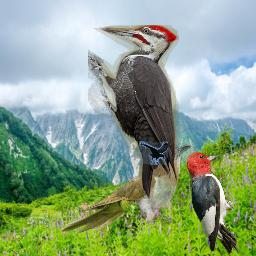Crow: (139, 141, 168, 165)
Cuckoo: (59, 144, 192, 233)
Woodpecker: (88, 25, 179, 204), (187, 151, 239, 254)
